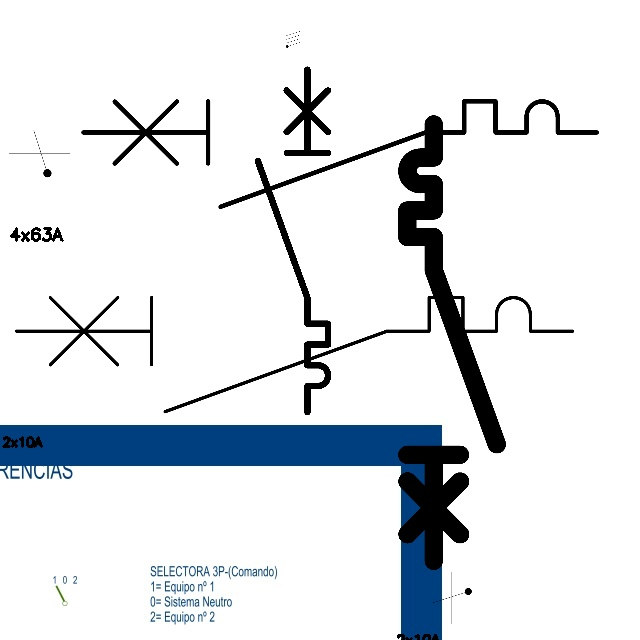interruptor_termomagnetico: (2, 283, 587, 426), (70, 88, 610, 220), (396, 113, 508, 572), (249, 60, 337, 421)
